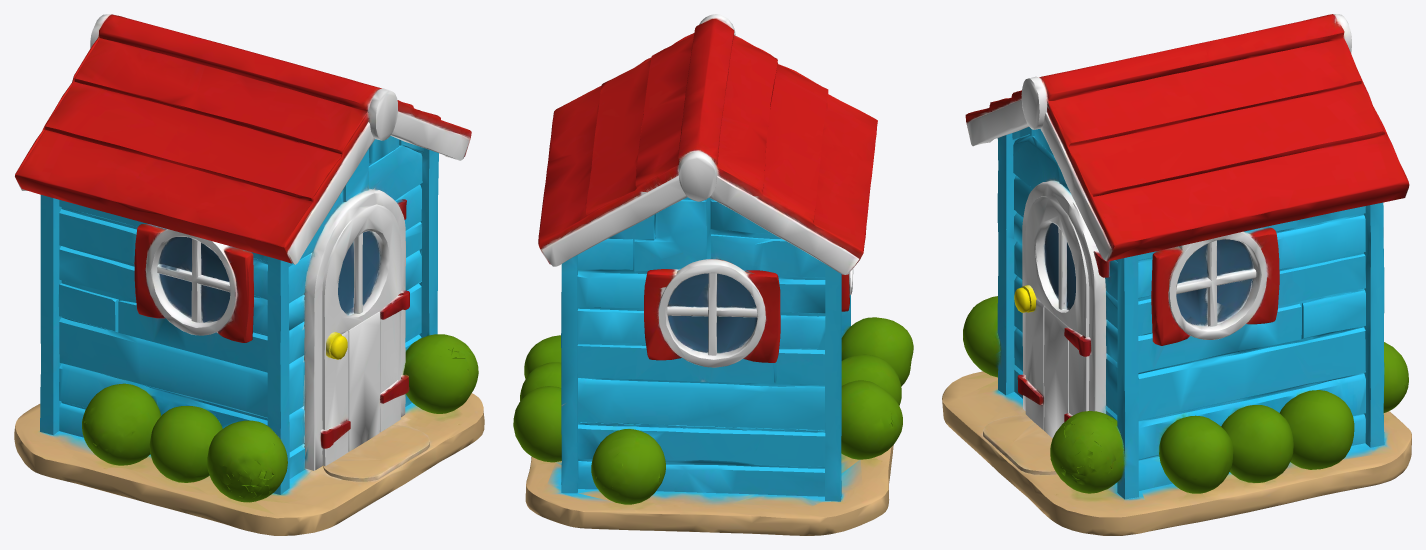
Rendered from house.glb.
The picture shows the model from 3 angles, left to right: view 1: azimuth 30°, elevation 25°; view 2: azimuth 150°, elevation 25°; view 3: azimuth 270°, elevation 25°; orthographic projection. The views are drawn at different scales.
Parts seen in each view (by area): view 1: tripo_node_9010c447-23ca-4f92-9e55-35de5e4dfed9; view 2: tripo_node_9010c447-23ca-4f92-9e55-35de5e4dfed9; view 3: tripo_node_9010c447-23ca-4f92-9e55-35de5e4dfed9.
Part boxes in pixels (left/top/right/bottom): tripo_node_9010c447-23ca-4f92-9e55-35de5e4dfed9: left=14, top=14, right=484, bottom=535; tripo_node_9010c447-23ca-4f92-9e55-35de5e4dfed9: left=513, top=14, right=913, bottom=535; tripo_node_9010c447-23ca-4f92-9e55-35de5e4dfed9: left=942, top=14, right=1411, bottom=535.
Bounding box in the file's own units: 6.44 × 6 × 6.49.
Materials: 1 (1 with a texture image).
